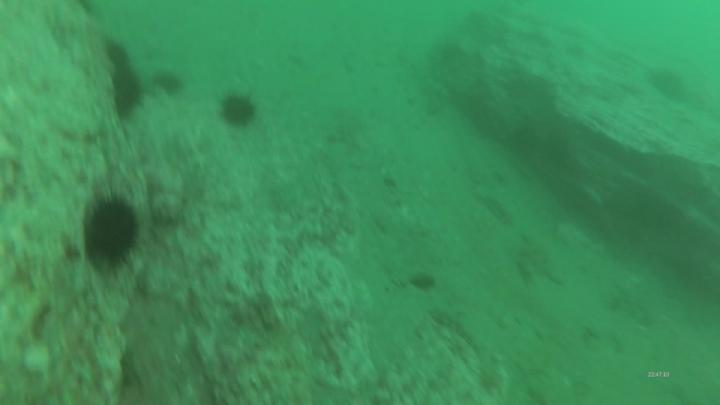echinus: (85, 192, 143, 271), (108, 65, 145, 123), (219, 89, 259, 130), (650, 64, 689, 103), (100, 37, 132, 73), (151, 68, 186, 99)
holothurian: (428, 307, 486, 361), (479, 192, 513, 227)
